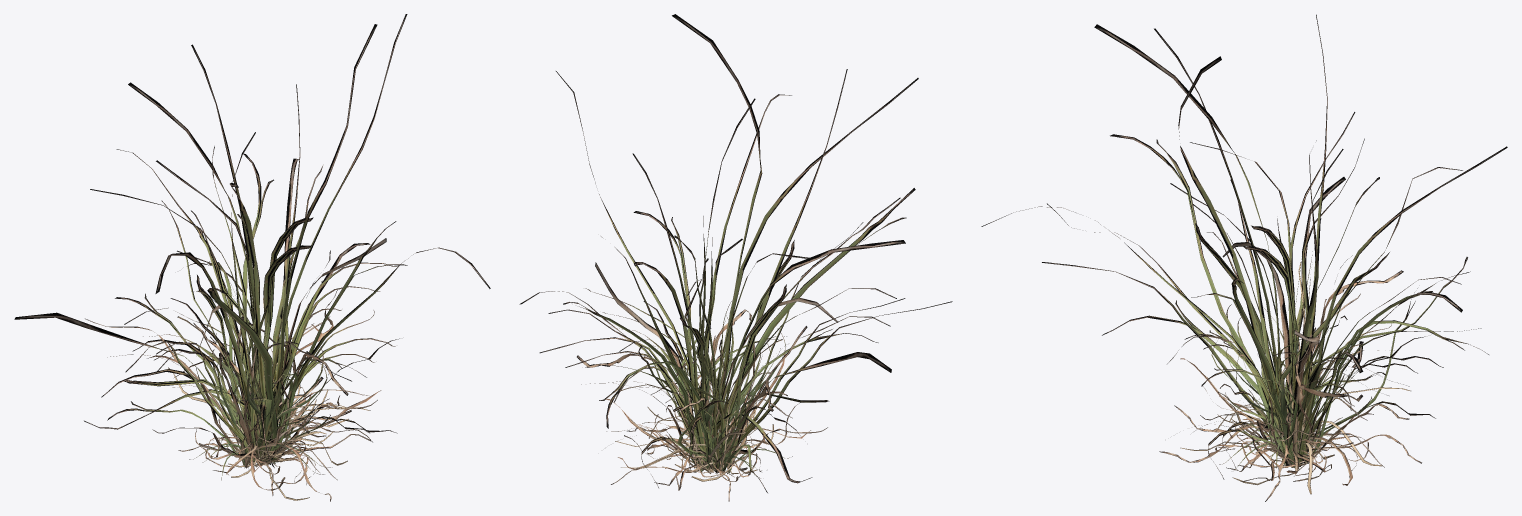
Rendered from grass-shurbs.glb.
The picture shows the model from 3 angles, left to right: view 1: azimuth 30°, elevation 25°; view 2: azimuth 150°, elevation 25°; view 3: azimuth 270°, elevation 25°; orthographic projection. The views are drawn at different scales.
Parts seen in each view (by area): view 1: e, d, c, b, a; view 2: e, d, c, b, a; view 3: e, d, c, b, a.
Boxes of the visible parts, x1,y1,x2,y2 form: e: (14,14,490,483); d: (101,146,398,501); c: (154,214,380,482); b: (202,266,381,480); a: (189,293,329,474); e: (519,14,918,490); d: (539,222,952,501); c: (565,216,905,472); b: (606,301,810,484); a: (627,321,762,478); e: (981,14,1507,468); d: (1042,177,1481,485); c: (1193,204,1488,501); b: (1180,251,1421,494); a: (1218,279,1362,464).
Bounding box in the file's own units: 0.3556 × 0.4053 × 0.4332.
1 material, 1 textured.
